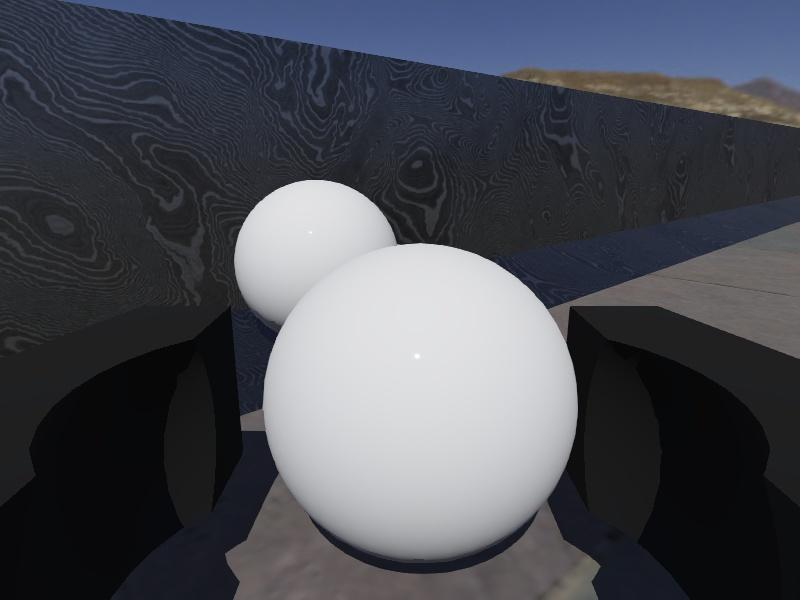white ball: (263, 243, 580, 566)
